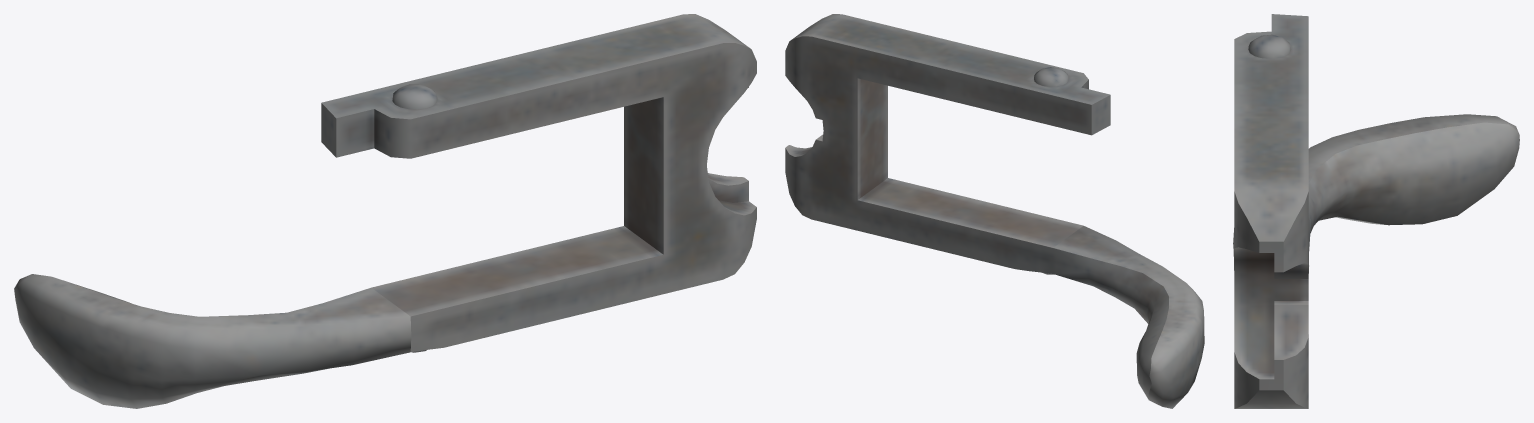
File: SM_RageBull_01c.fbx
3 views of the same model, side by side, from view 1: azimuth 30°, elevation 25°; view 2: azimuth 150°, elevation 25°; view 3: azimuth 270°, elevation 25° (orthographic). The views are drawn at different scales.
Visible parts, largest first — view 1: SM_RageBull_01c_LOD0; view 2: SM_RageBull_01c_LOD0; view 3: SM_RageBull_01c_LOD0.
Boxes of the visible parts, left/top/right/bottom form: SM_RageBull_01c_LOD0: left=14, top=14, right=756, bottom=408; SM_RageBull_01c_LOD0: left=785, top=14, right=1204, bottom=408; SM_RageBull_01c_LOD0: left=1233, top=14, right=1519, bottom=408.
Size of the model in its own units: 6.41 by 2.76 by 3.13.
